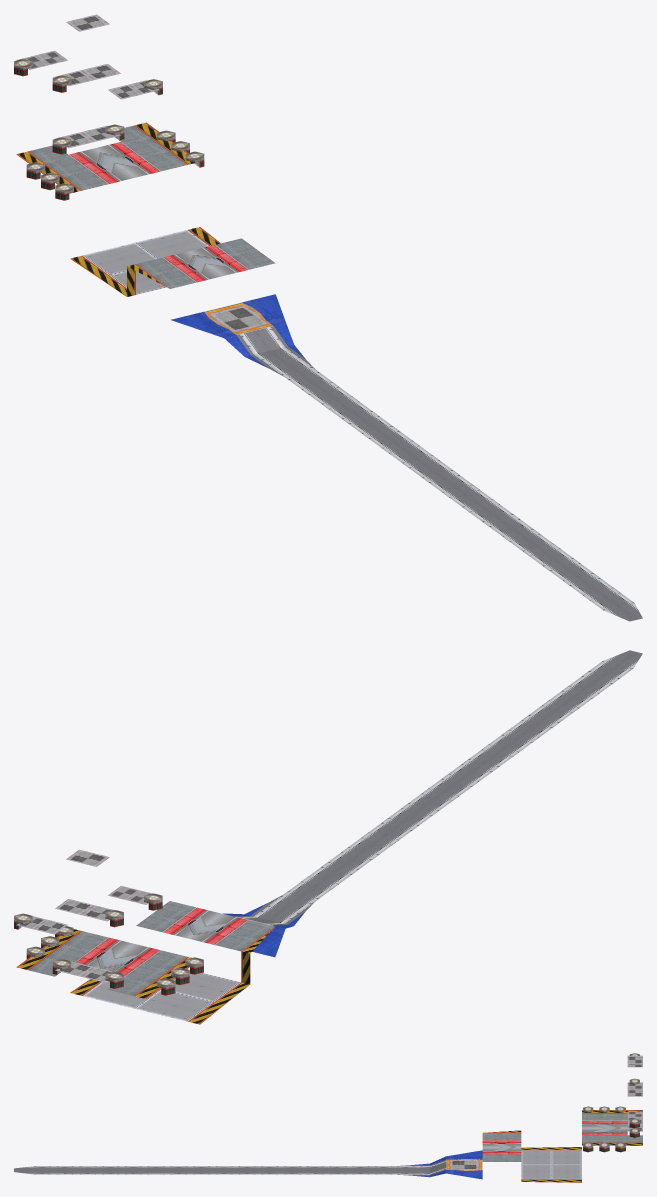
File: S13_ONS_18.OBJ
The picture shows the model from 3 angles, top to bottom: view 1: azimuth 30°, elevation 25°; view 2: azimuth 150°, elevation 25°; view 3: azimuth 270°, elevation 25°; orthographic projection. The views are drawn at different scales.
Parts seen in each view (by area): view 1: s13_ons_18_3, s13_ons_18_9, s13_ons_18_10, s13_ons_18_1, s13_ons_18_5, s13_ons_18_4, s13_ons_18_2, s13_ons_18_8, s13_ons_18_0; view 2: s13_ons_18_3, s13_ons_18_9, s13_ons_18_10, s13_ons_18_5, s13_ons_18_1, s13_ons_18_4, s13_ons_18_8, s13_ons_18_2, s13_ons_18_6, s13_ons_18_0; view 3: s13_ons_18_3, s13_ons_18_5, s13_ons_18_9, s13_ons_18_10, s13_ons_18_1, s13_ons_18_4, s13_ons_18_2, s13_ons_18_8, s13_ons_18_0, s13_ons_18_6.
Part boxes in pixels (<box>): s13_ons_18_3: <box>236,326,642,621</box>; s13_ons_18_9: <box>29,125,275,288</box>; s13_ons_18_10: <box>69,142,248,282</box>; s13_ons_18_1: <box>16,14,267,332</box>; s13_ons_18_5: <box>83,230,209,294</box>; s13_ons_18_4: <box>16,122,220,296</box>; s13_ons_18_2: <box>170,294,305,367</box>; s13_ons_18_8: <box>14,59,204,192</box>; s13_ons_18_0: <box>14,65,273,334</box>; s13_ons_18_3: <box>236,650,642,925</box>; s13_ons_18_9: <box>29,901,274,995</box>; s13_ons_18_10: <box>75,907,248,977</box>; s13_ons_18_5: <box>82,969,240,1021</box>; s13_ons_18_1: <box>16,849,152,983</box>; s13_ons_18_4: <box>16,927,274,1024</box>; s13_ons_18_8: <box>14,893,203,987</box>; s13_ons_18_2: <box>223,903,304,957</box>; s13_ons_18_6: <box>14,902,203,995</box>; s13_ons_18_0: <box>14,900,272,988</box>; s13_ons_18_3: <box>14,1160,446,1175</box>; s13_ons_18_5: <box>521,1150,581,1179</box>; s13_ons_18_9: <box>482,1113,642,1161</box>; s13_ons_18_10: <box>482,1120,627,1154</box>; s13_ons_18_1: <box>450,1055,642,1170</box>; s13_ons_18_4: <box>483,1110,642,1182</box>; s13_ons_18_2: <box>411,1150,482,1179</box>; s13_ons_18_8: <box>583,1053,639,1147</box>; s13_ons_18_0: <box>446,1082,639,1170</box>; s13_ons_18_6: <box>583,1123,639,1152</box>.
Size of the model in its own units: 480 by 600 by 3100.
Materials: 11 (11 with a texture image).
